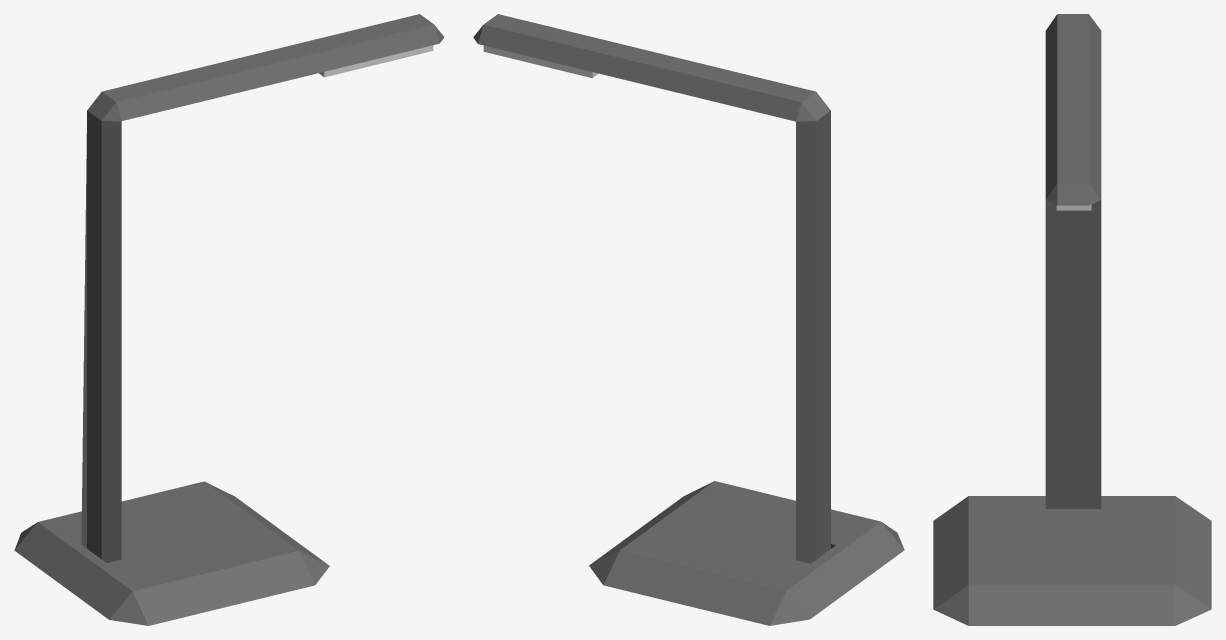
Rendered from lampu.fbx.
The picture shows the model from 3 angles, left to right: view 1: azimuth 30°, elevation 25°; view 2: azimuth 150°, elevation 25°; view 3: azimuth 270°, elevation 25°; orthographic projection. The views are drawn at different scales.
Visible parts, largest first — view 1: Cube, Cube.001; view 2: Cube, Cube.001; view 3: Cube.
Part boxes in pixels (<box>): Cube: <box>14,14,444,625</box>; Cube.001: <box>319,45,433,77</box>; Cube: <box>473,14,904,625</box>; Cube.001: <box>483,45,598,78</box>; Cube: <box>933,14,1211,625</box>.
Bounding box in the file's own units: 341 × 412 × 200.
Materials: 1 (1 with a texture image).
